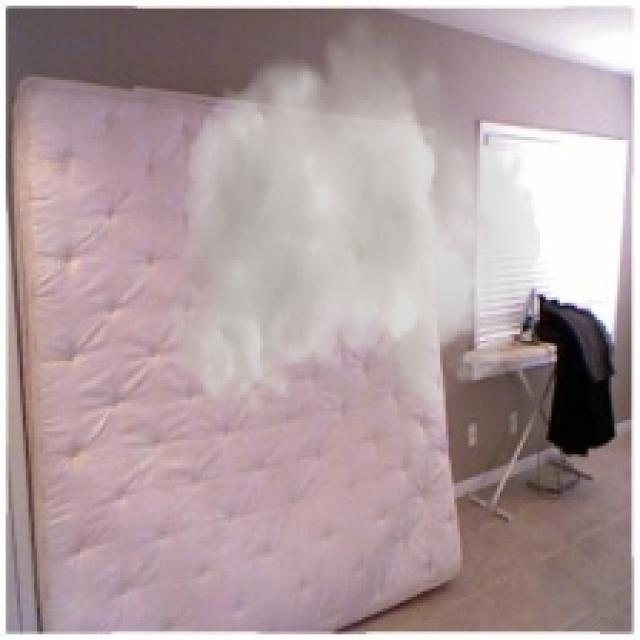smoke: (169, 6, 540, 417)
